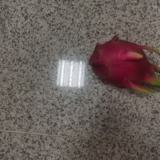pitaya: (93, 36, 160, 92)
